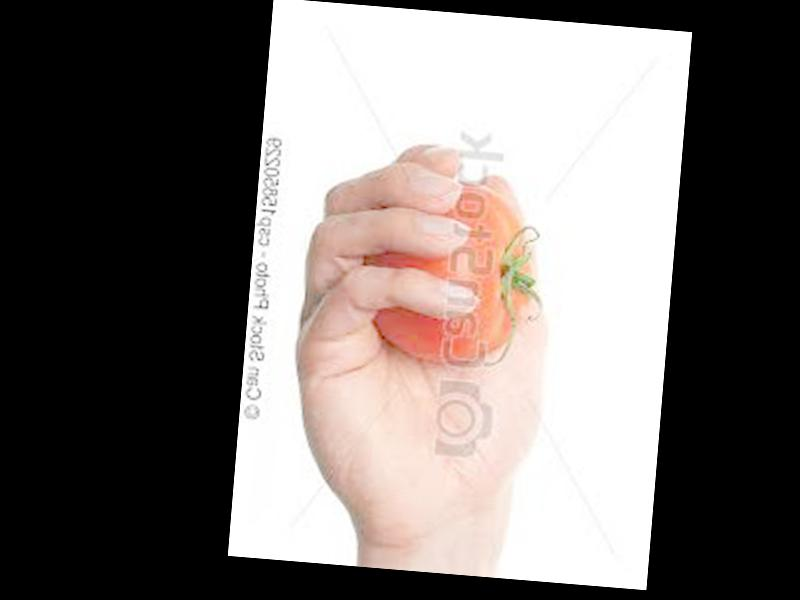Tomato: (362, 176, 538, 365)
